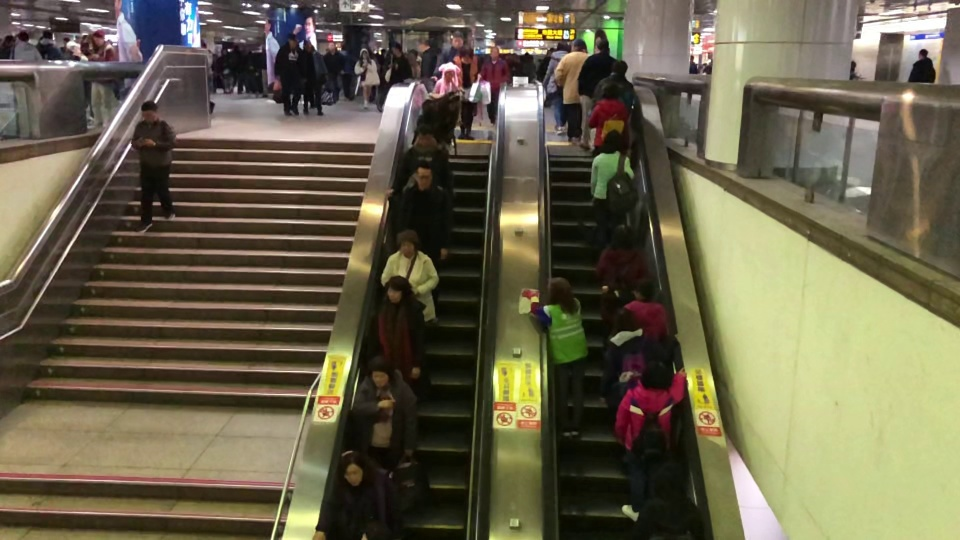person_head: (650, 461, 685, 499), (338, 451, 366, 487), (639, 360, 671, 388), (369, 356, 392, 388), (384, 276, 408, 303), (548, 276, 572, 303), (611, 307, 636, 332), (415, 159, 433, 189), (413, 128, 435, 152), (630, 277, 654, 299), (601, 130, 622, 153), (140, 99, 158, 122), (612, 224, 631, 245), (421, 102, 438, 123), (611, 59, 628, 75), (602, 84, 617, 99), (450, 30, 463, 47), (460, 46, 473, 63), (442, 64, 455, 81), (571, 38, 586, 52), (594, 38, 609, 52), (417, 38, 431, 50), (94, 31, 105, 46), (17, 30, 29, 42), (556, 40, 569, 51), (490, 45, 500, 59), (391, 42, 401, 55), (3, 34, 13, 46), (42, 29, 53, 39), (918, 48, 928, 58), (289, 35, 298, 46), (360, 47, 369, 58), (327, 39, 335, 50), (304, 40, 311, 49), (851, 60, 855, 71), (689, 54, 694, 62)
person_vbox: (614, 360, 686, 521), (521, 276, 588, 442), (599, 307, 680, 408), (351, 356, 417, 474), (311, 450, 387, 540), (366, 276, 428, 383), (593, 223, 649, 334), (131, 100, 176, 231), (395, 159, 453, 260), (634, 461, 703, 540), (386, 129, 457, 203), (590, 130, 636, 235), (577, 38, 614, 149), (553, 38, 586, 143), (86, 31, 117, 129), (623, 278, 669, 341), (587, 83, 630, 147), (478, 46, 511, 126), (542, 40, 569, 135), (274, 35, 305, 117), (453, 46, 478, 141), (592, 59, 634, 109), (304, 40, 326, 116), (353, 47, 378, 111), (323, 39, 344, 104), (383, 42, 412, 86), (906, 48, 937, 82), (13, 30, 41, 60), (440, 29, 463, 64), (416, 38, 436, 77), (433, 64, 457, 95), (39, 29, 63, 58), (0, 33, 15, 59), (849, 61, 862, 80), (690, 54, 695, 74)
